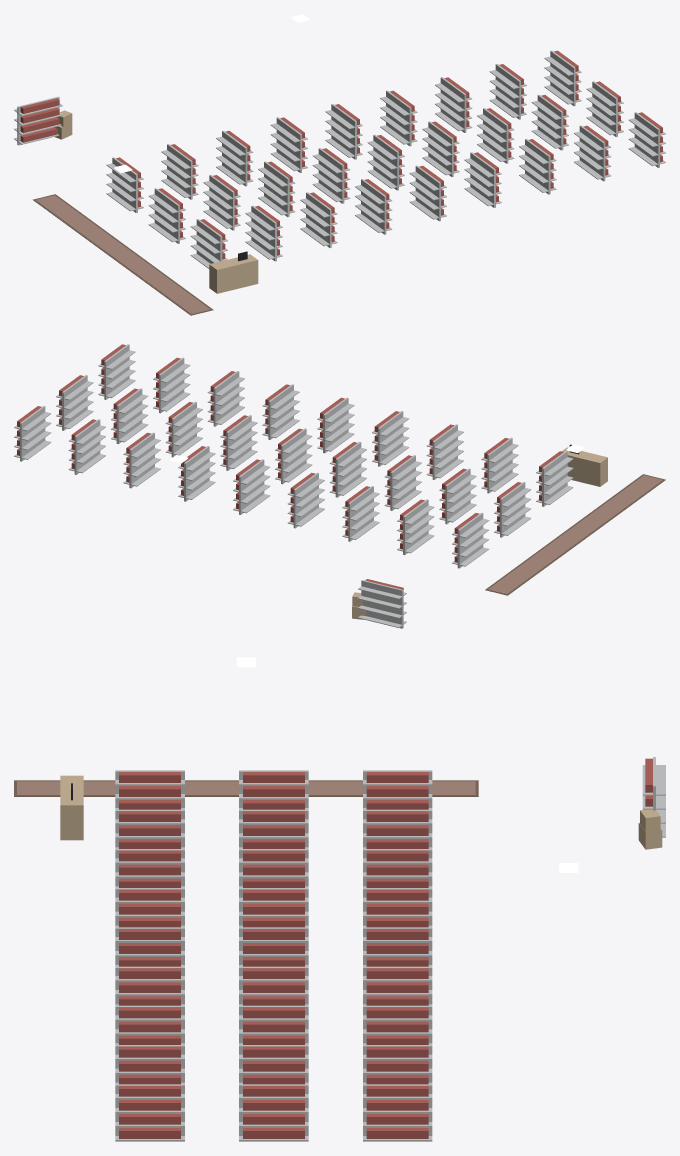
Rendered from fine-s0.glb.
The picture shows the model from 3 angles, top to bottom: view 1: azimuth 30°, elevation 25°; view 2: azimuth 150°, elevation 25°; view 3: azimuth 270°, elevation 25°; orthographic projection. The views are drawn at different scales.
Parts seen in each view (by area): view 1: soft-s0, shelving.000, shop-counter.000, shelf.022, shelf.023, shelf.010, shelf.018, shelf.024, shelf.006, shelf.008, shelf.015, shelf.005 (+18 smaller); view 2: soft-s0, shelving.000, shelf.010, shelf.020, shelf.022, shelf.000, shelf.011, shelf.021, shelf.004, shelf.017, shelf.005, shelf.009 (+18 smaller); view 3: shelf.024, shelf.025, shelf.026, soft-s0, shelf.000, shelf.001, shelf.002, shelf.004, shelf.005, shelf.010, shelf.011, shelf.012 (+19 smaller).
Part boxes in pixels (bbox=[...]): soft-s0: bbox=[33, 194, 213, 315]; shelving.000: bbox=[14, 96, 62, 145]; shop-counter.000: bbox=[209, 251, 258, 293]; shelf.022: bbox=[531, 94, 568, 150]; shelf.023: bbox=[574, 125, 611, 181]; shelf.010: bbox=[312, 148, 350, 203]; shelf.018: bbox=[435, 77, 472, 132]; shelf.024: bbox=[544, 50, 581, 106]; shelf.006: bbox=[216, 130, 253, 186]; shelf.008: bbox=[300, 192, 337, 247]; shelf.015: bbox=[380, 90, 417, 146]; shelf.005: bbox=[245, 205, 282, 261]; soft-s0: bbox=[485, 474, 665, 595]; shelving.000: bbox=[358, 579, 406, 628]; shelf.010: bbox=[329, 441, 366, 497]; shelf.020: bbox=[207, 371, 244, 426]; shelf.022: bbox=[111, 388, 148, 444]; shelf.000: bbox=[452, 512, 489, 568]; shelf.011: bbox=[372, 411, 409, 466]; shelf.021: bbox=[68, 419, 105, 474]; shelf.004: bbox=[439, 468, 476, 524]; shelf.017: bbox=[262, 384, 299, 439]; shelf.005: bbox=[481, 437, 518, 493]; shelf.009: bbox=[287, 472, 324, 528]; shelf.024: bbox=[363, 1084, 432, 1141]; shelf.025: bbox=[239, 1084, 308, 1141]; shelf.026: bbox=[115, 1084, 184, 1141]; soft-s0: bbox=[14, 780, 478, 796]; shelf.000: bbox=[363, 770, 432, 809]; shelf.001: bbox=[239, 770, 308, 809]; shelf.002: bbox=[115, 770, 184, 809]; shelf.004: bbox=[239, 809, 308, 848]; shelf.005: bbox=[115, 809, 184, 848]; shelf.010: bbox=[239, 888, 308, 927]; shelf.011: bbox=[115, 888, 184, 927]; shelf.012: bbox=[363, 927, 432, 966].
Size of the model in its own units: 22.35 by 3.64 by 16.85.
